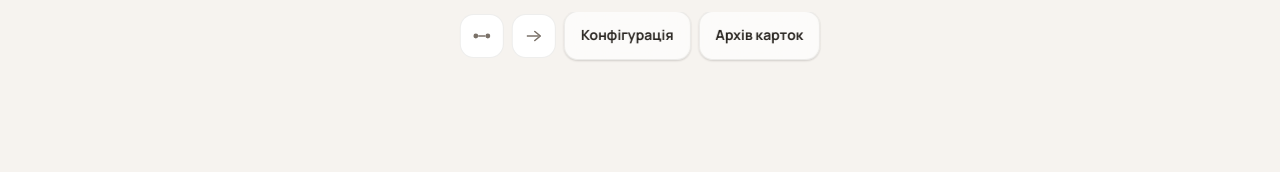
Scenario: вимоги 4/5 (чат): два завжди видимі інструменти "Лінія"/"Стрілка" -- без проміжної кнопки-шлюзу "Зв'язати" › обидва інструменти видимі одразу, клік по "Лінія" вмикає підказку "оберіть першу картку"
Expected: the button named "Стрілка" is shown, [512,14,556,58]
Click the button named "Лінія".
click(482, 36)  # box [460,14,504,58]
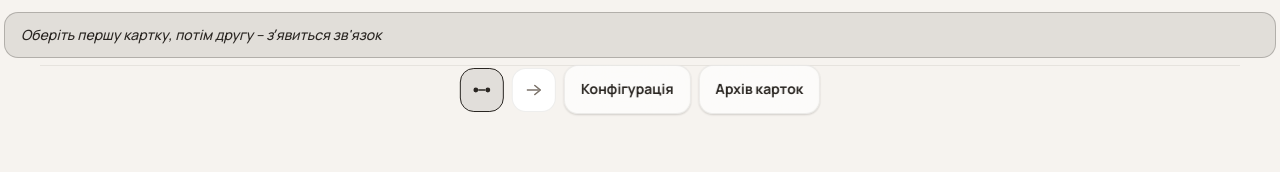
Expected: the text "Оберіть першу картку, потім другу -- зʼявиться зв'язок" is shown, [4,12,1276,58]
